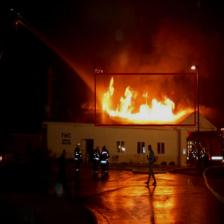fire: (94, 73, 196, 126)
